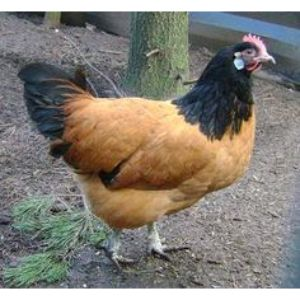hen: (18, 30, 280, 269)
